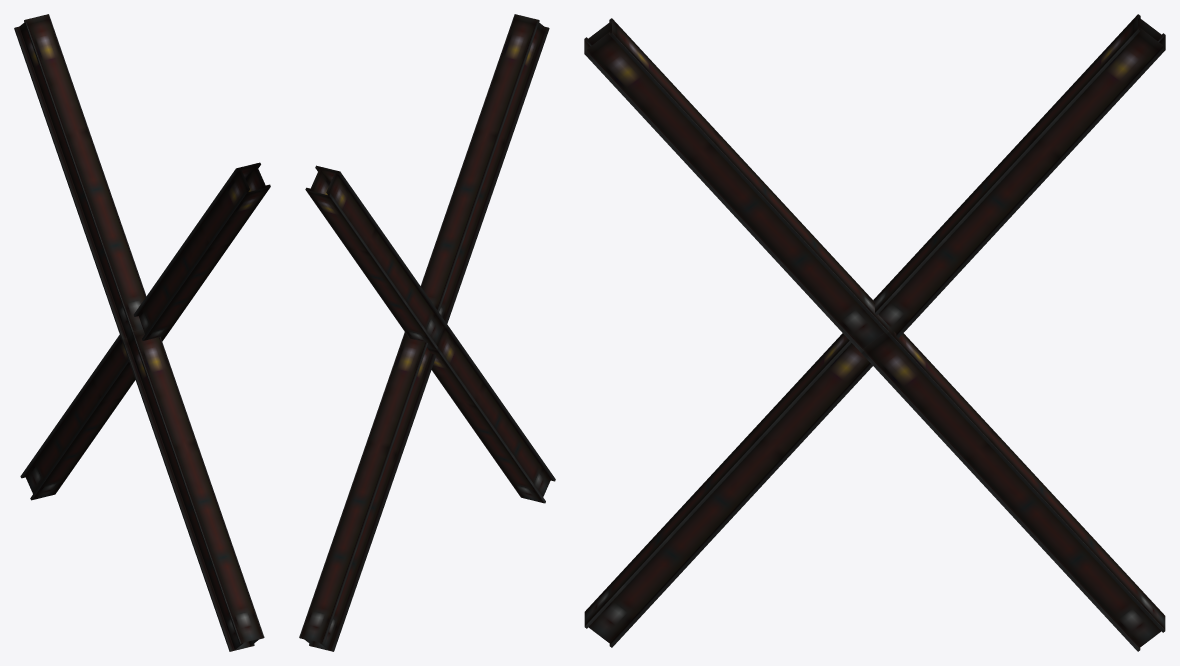
Rendered from Beam_08.FBX.
3 views of the same model, side by side, from view 1: azimuth 30°, elevation 25°; view 2: azimuth 150°, elevation 25°; view 3: azimuth 270°, elevation 25° (orthographic). The views are drawn at different scales.
Parts seen in each view (by area): view 1: Beam_08; view 2: Beam_08; view 3: Beam_08.
Part boxes in pixels (bbox=[...]): Beam_08: bbox=[14, 14, 270, 651]; Beam_08: bbox=[299, 14, 555, 651]; Beam_08: bbox=[584, 14, 1165, 651].
Size of the model in its own units: 15.6 by 235 by 200.
